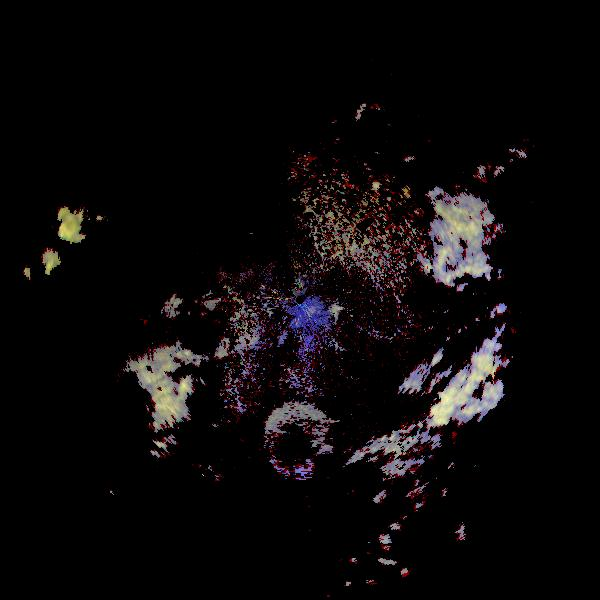roost: (253, 394, 346, 487)
